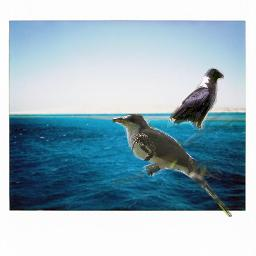Crow: (167, 66, 224, 130)
Cuckoo: (112, 114, 232, 217)
